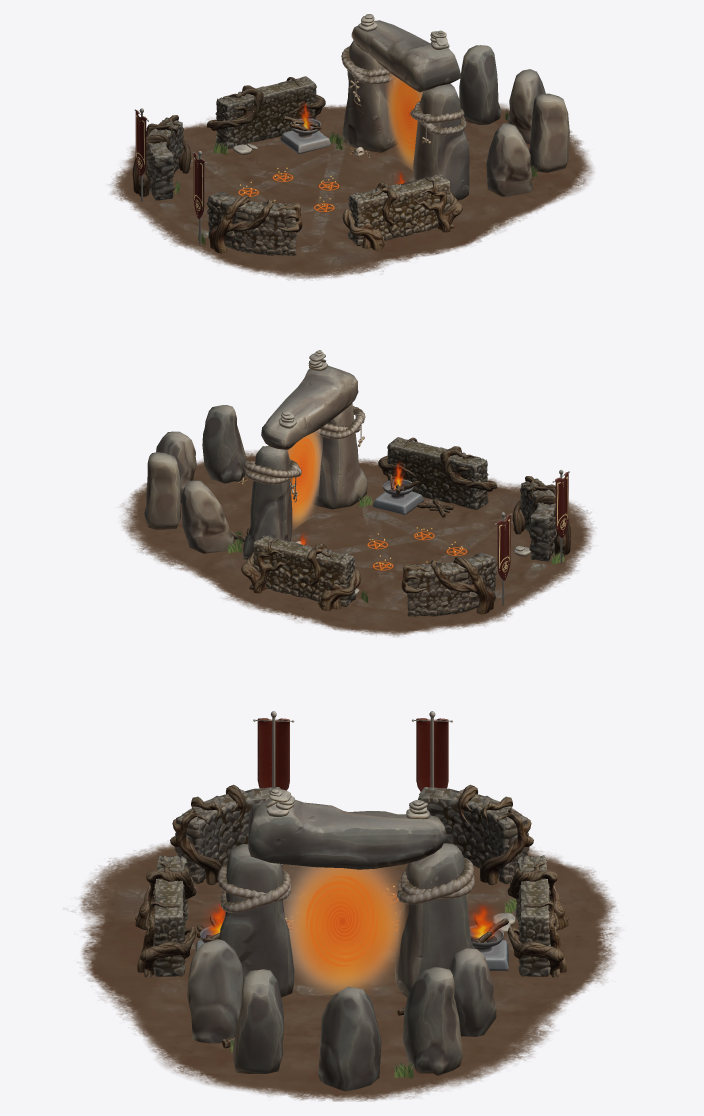
The model's file is boss-arena.glb.
3 renders of one model, top to bottom at view 1: azimuth 30°, elevation 25°; view 2: azimuth 150°, elevation 25°; view 3: azimuth 270°, elevation 25°, orthographic. The views are drawn at different scales.
Visible parts, largest first — view 1: Object_5, Object_18, Object_14, Object_9, Object_20, Object_8, Object_7, Object_4, Object_6, Object_3, Object_24, Object_12 (+3 smaller); view 2: Object_5, Object_18, Object_14, Object_20, Object_9, Object_7, Object_8, Object_4, Object_6, Object_3, Object_12, Object_24 (+3 smaller); view 3: Object_5, Object_8, Object_3, Object_7, Object_9, Object_14, Object_20, Object_6, Object_4, Object_18, Object_12, Object_24 (+3 smaller).
Part boxes in pixels (x1,y1,x2,y2): Object_5: (110,103,593,280); Object_18: (215,76,451,246); Object_14: (132,77,462,253); Object_9: (459,45,569,172); Object_20: (146,117,296,255); Object_8: (421,69,545,196); Object_7: (351,20,461,92); Object_4: (413,83,469,200); Object_6: (342,40,397,152); Object_3: (386,72,424,170); Object_24: (341,46,466,135); Object_12: (134,108,206,244); Object_5: (121,450,593,637); Object_18: (252,437,488,607); Object_14: (241,437,570,614); Object_20: (407,478,556,616); Object_9: (144,405,247,529); Object_7: (261,365,358,449); Object_8: (156,431,234,553); Object_4: (312,403,367,509); Object_6: (243,445,292,559); Object_3: (287,429,322,528); Object_12: (494,469,569,605); Object_24: (243,406,365,484); Object_5: (71,843,617,1101); Object_8: (187,939,496,1091); Object_3: (283,866,408,994); Object_7: (248,800,446,869); Object_9: (232,967,462,1075); Object_14: (135,784,568,977); Object_20: (174,787,529,884); Object_6: (395,843,473,997); Object_4: (219,844,294,997); Object_18: (152,855,551,976); Object_12: (253,711,452,791); Object_24: (217,858,474,912).
Bounding box in the file's own units: 22.13 × 8.04 × 22.13.
Materials: 25 (24 with a texture image).
